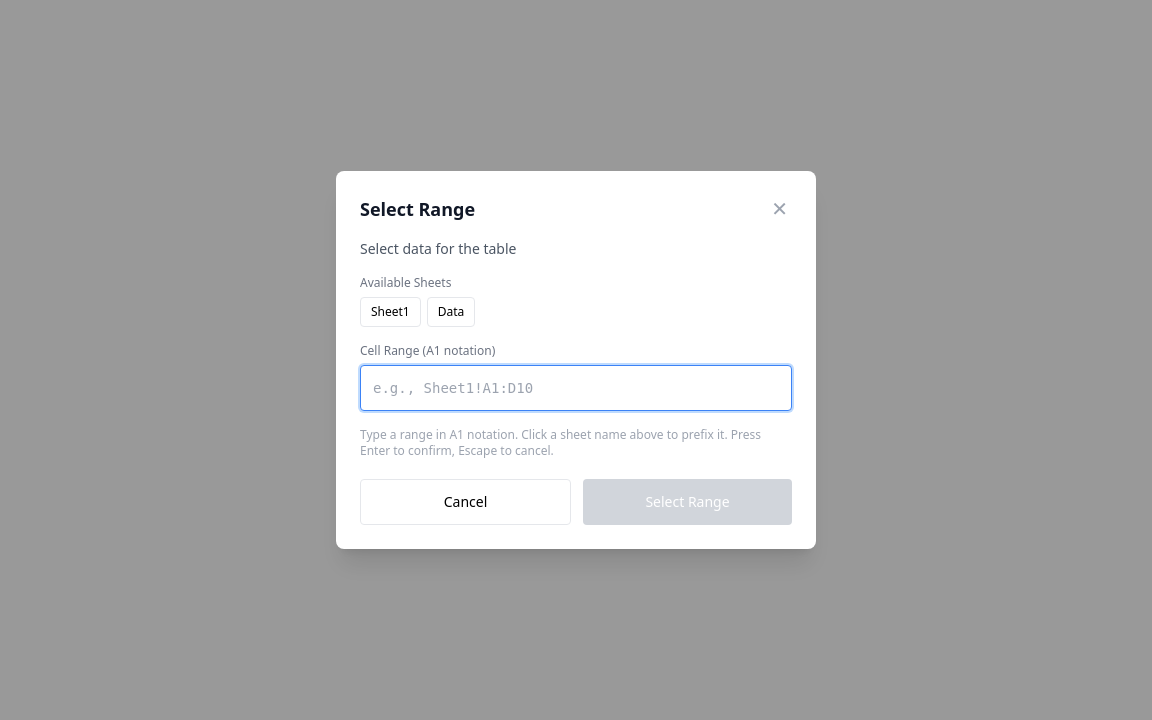
SheetLinkRangePicker › shows error for non-existent sheet
This screenshot has width=1152, height=720.
Type "NonExistent!A1" into the field with placeholder "e.g., Sheet1!A1:D10".
click(576, 388); type("NonExistent!A1")  # box [360,365,792,411]
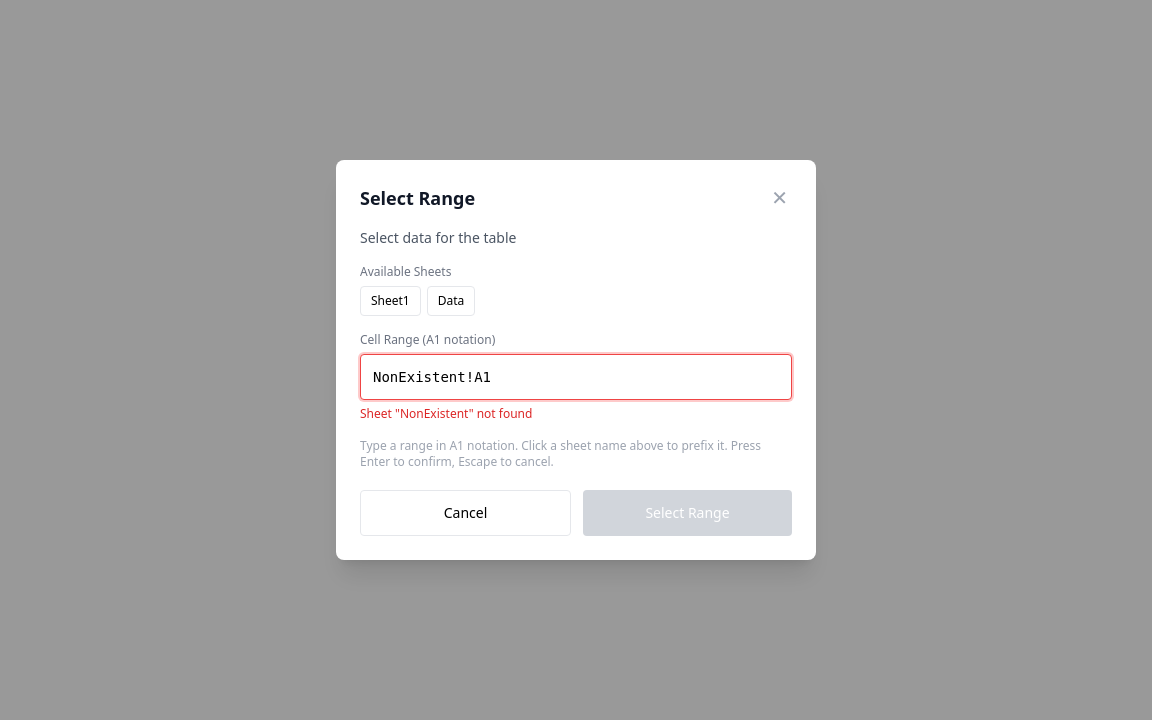
Check: the text "Sheet \"NonExistent\" not found" is shown, box [360,405,532,422]
